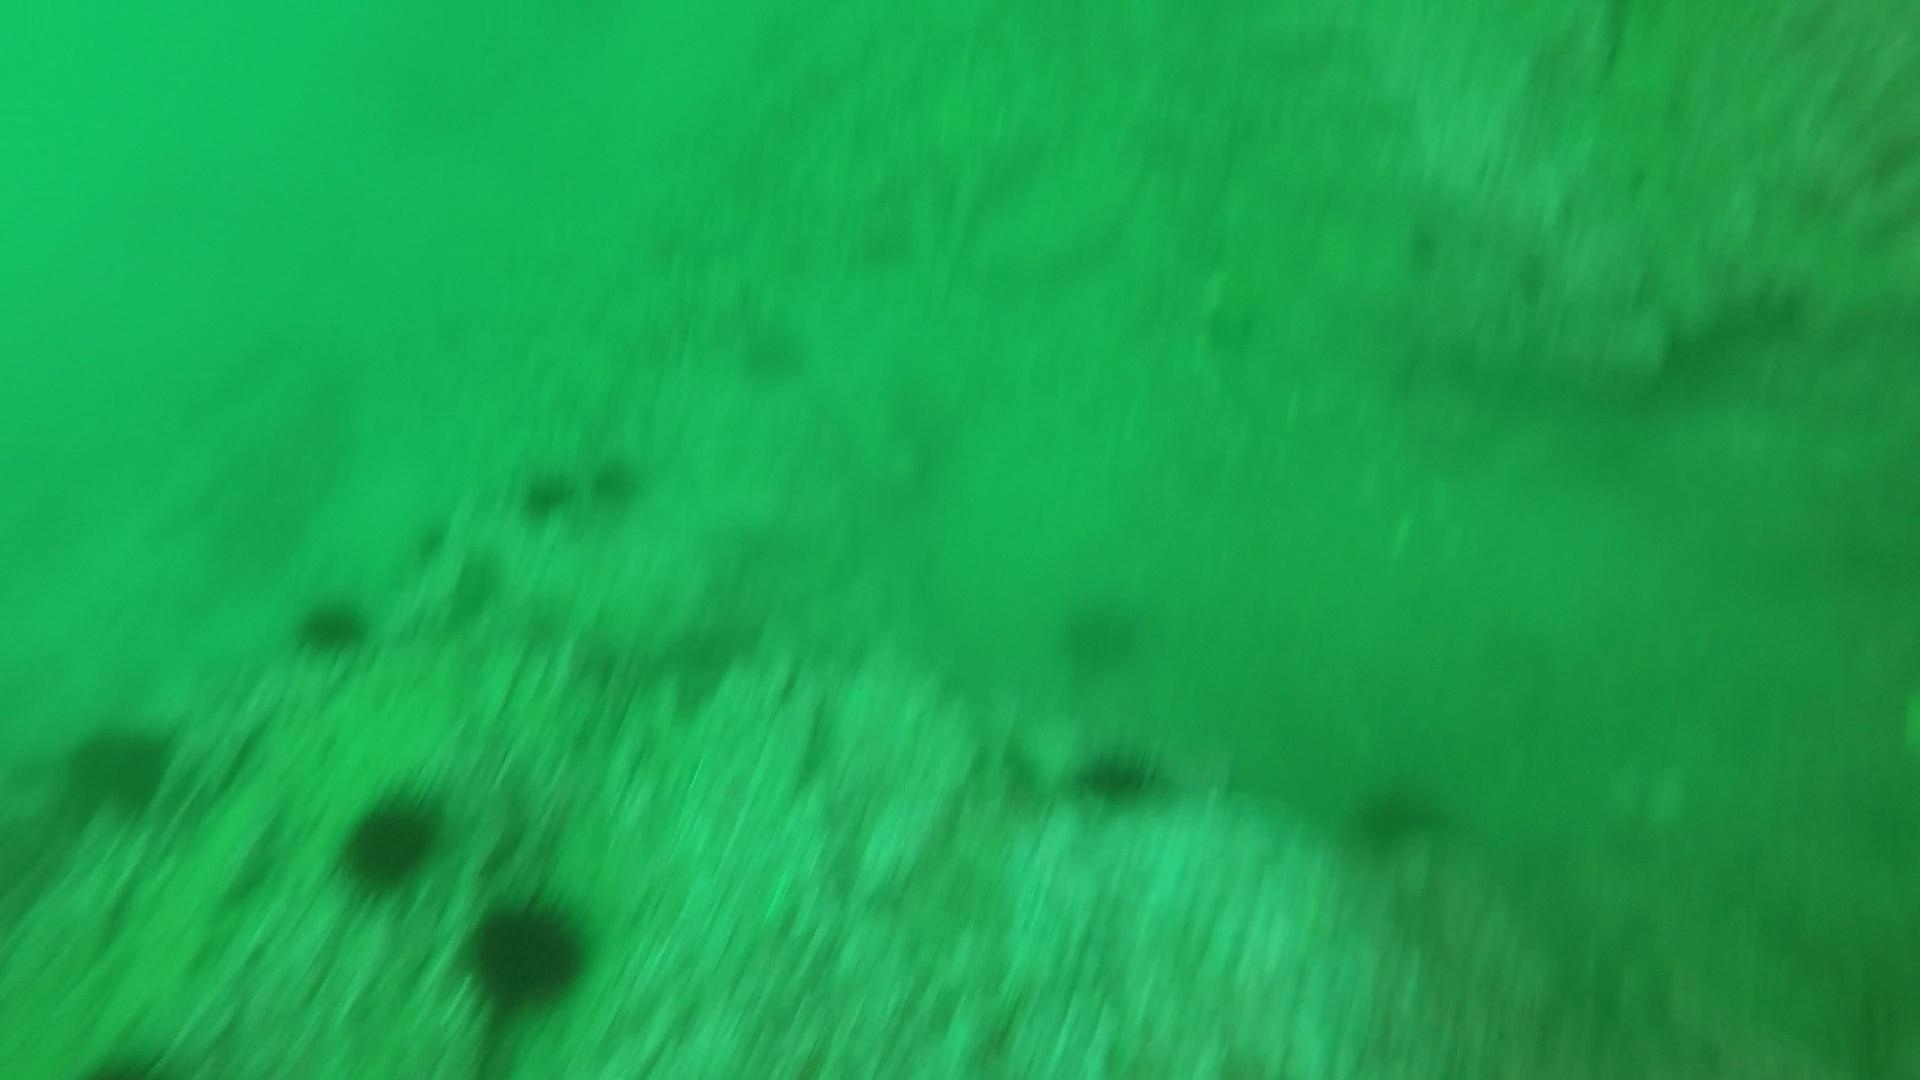echinus: (458, 887, 596, 1015), (332, 783, 448, 898), (59, 713, 181, 819), (1341, 767, 1451, 855), (1054, 585, 1149, 673), (1069, 736, 1170, 814), (290, 588, 375, 659), (735, 315, 810, 386), (585, 448, 649, 513), (513, 463, 578, 524)
